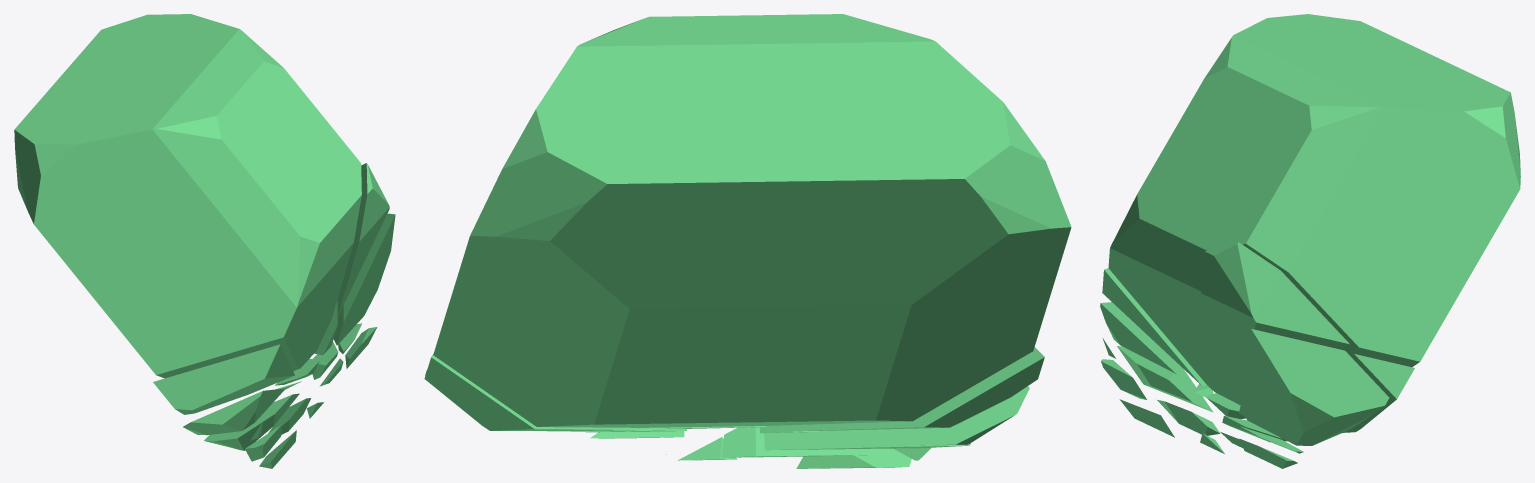
The model's file is gem_167564.gltf.
The picture shows the model from 3 angles, left to right: view 1: azimuth 30°, elevation 25°; view 2: azimuth 150°, elevation 25°; view 3: azimuth 270°, elevation 25°; orthographic projection. The views are drawn at different scales.
Bounding box in the file's own units: 2 × 1.73 × 1.85.
